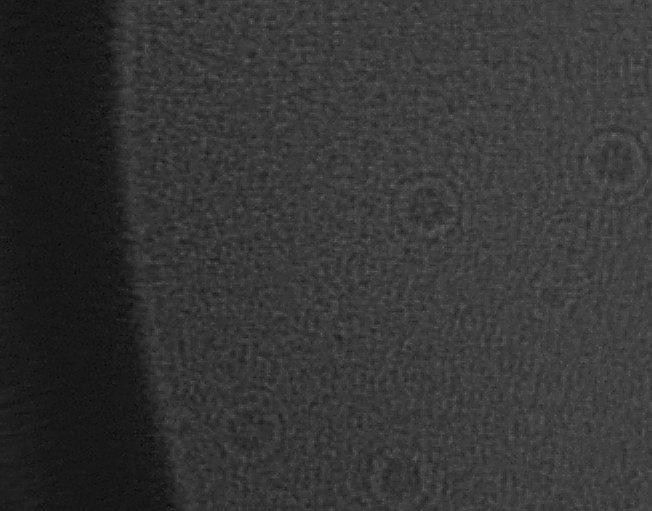bead: (561, 109, 652, 213), (372, 164, 474, 253), (206, 385, 297, 472), (350, 438, 448, 511)
